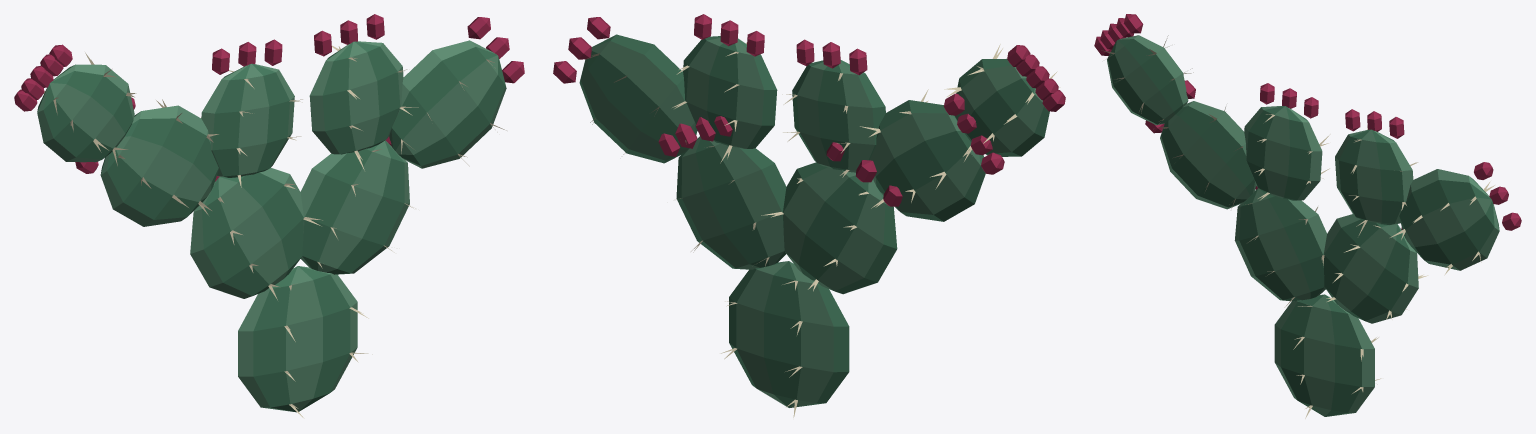
The model's file is prickly_pear.glb.
3 views of the same model, side by side, from view 1: azimuth 30°, elevation 25°; view 2: azimuth 150°, elevation 25°; view 3: azimuth 330°, elevation 25° (orthographic). The views are drawn at different scales.
Visible parts, largest first — view 1: Pad_0, Pad_1, Pad_4, Pad_2, Pad_3, Pad_6, Pad_5, Pad_7; view 2: Pad_0, Pad_1, Pad_2, Pad_3, Pad_4, Pad_6, Pad_5, Pad_7; view 3: Pad_0, Pad_4, Pad_2, Pad_1, Pad_3, Pad_5, Pad_6, Pad_7.
Boxes of the visible parts, x1=… form: Pad_0: x1=238, y1=266, x2=372, y2=418; Pad_1: x1=190, y1=168, x2=322, y2=300; Pad_4: x1=389, y1=17, x2=524, y2=168; Pad_2: x1=300, y1=136, x2=415, y2=274; Pad_3: x1=75, y1=97, x2=218, y2=226; Pad_6: x1=309, y1=14, x2=418, y2=170; Pad_5: x1=201, y1=39, x2=302, y2=187; Pad_7: x1=14, y1=44, x2=136, y2=165; Pad_0: x1=720, y1=261, x2=849, y2=417; Pad_1: x1=761, y1=142, x2=902, y2=294; Pad_2: x1=658, y1=116, x2=786, y2=269; Pad_3: x1=860, y1=89, x2=1004, y2=221; Pad_4: x1=553, y1=17, x2=697, y2=163; Pad_6: x1=672, y1=14, x2=777, y2=163; Pad_5: x1=782, y1=39, x2=885, y2=177; Pad_7: x1=944, y1=44, x2=1065, y2=161; Pad_0: x1=1274, y1=294, x2=1381, y2=418; Pad_4: x1=1390, y1=162, x2=1521, y2=275; Pad_2: x1=1323, y1=214, x2=1428, y2=323; Pad_1: x1=1234, y1=186, x2=1326, y2=307; Pad_3: x1=1145, y1=80, x2=1255, y2=209; Pad_5: x1=1244, y1=83, x2=1330, y2=200; Pad_6: x1=1335, y1=109, x2=1418, y2=235; Pad_7: x1=1094, y1=14, x2=1193, y2=129.
Bounding box in the file's own units: 3.63 × 2.87 × 0.4665.
